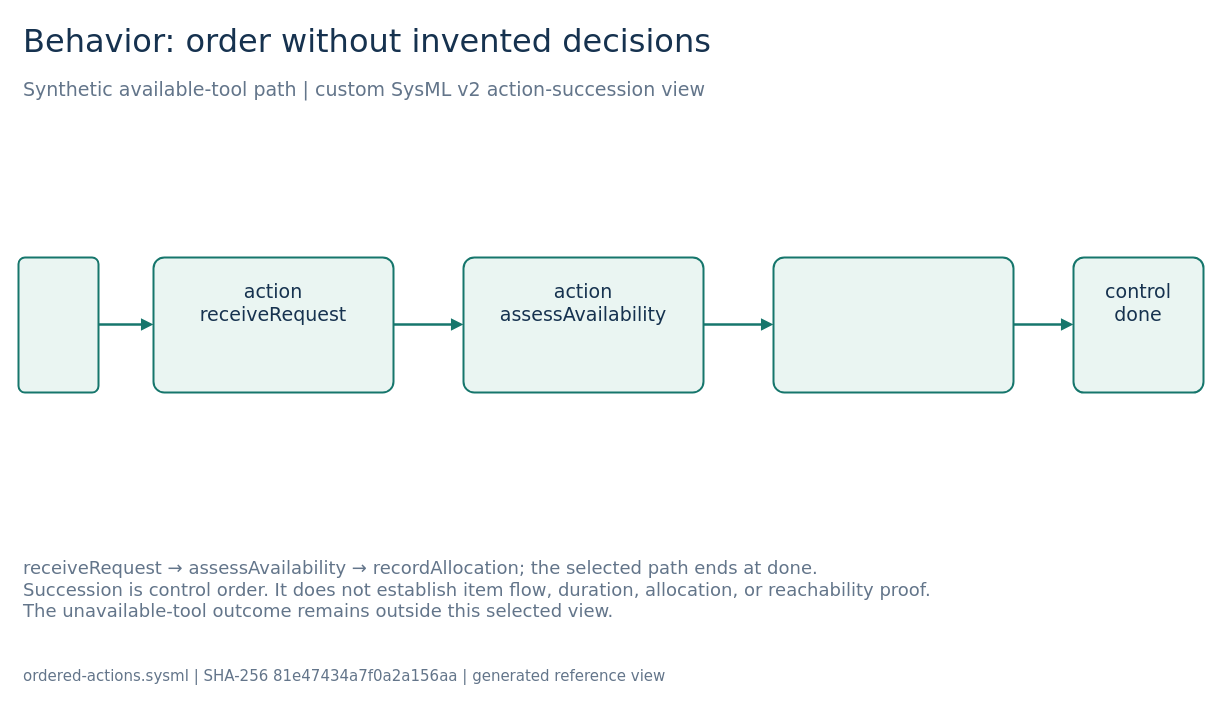
Image size: 1221x710. Some labels were removed from this diagram. The centre of each missing label's shape, as x and y in pixels:
"action recordAllocation" goes at pixel 893 324.
"control start" goes at pixel 58 324.
